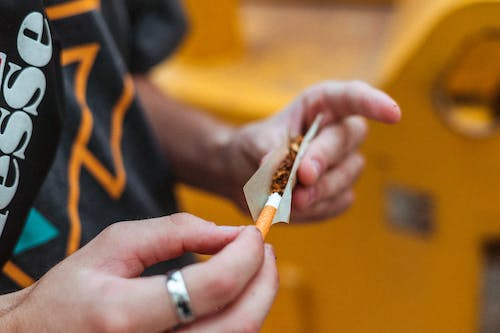cigarette: (253, 131, 309, 241)
